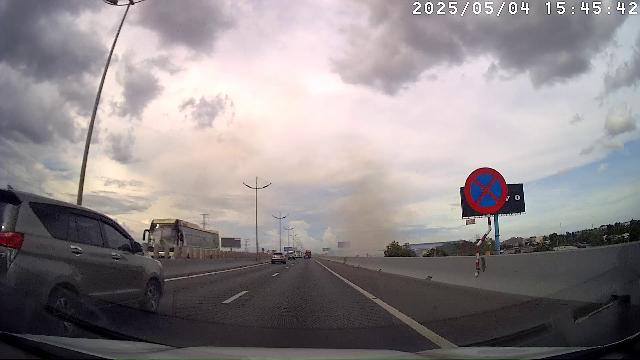130-cam-dung-va-do-xe: (464, 165, 509, 215)
